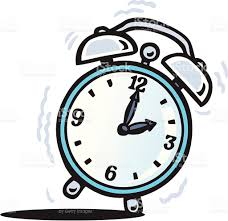alarm_clock: (49, 12, 211, 213), (49, 22, 211, 213)
